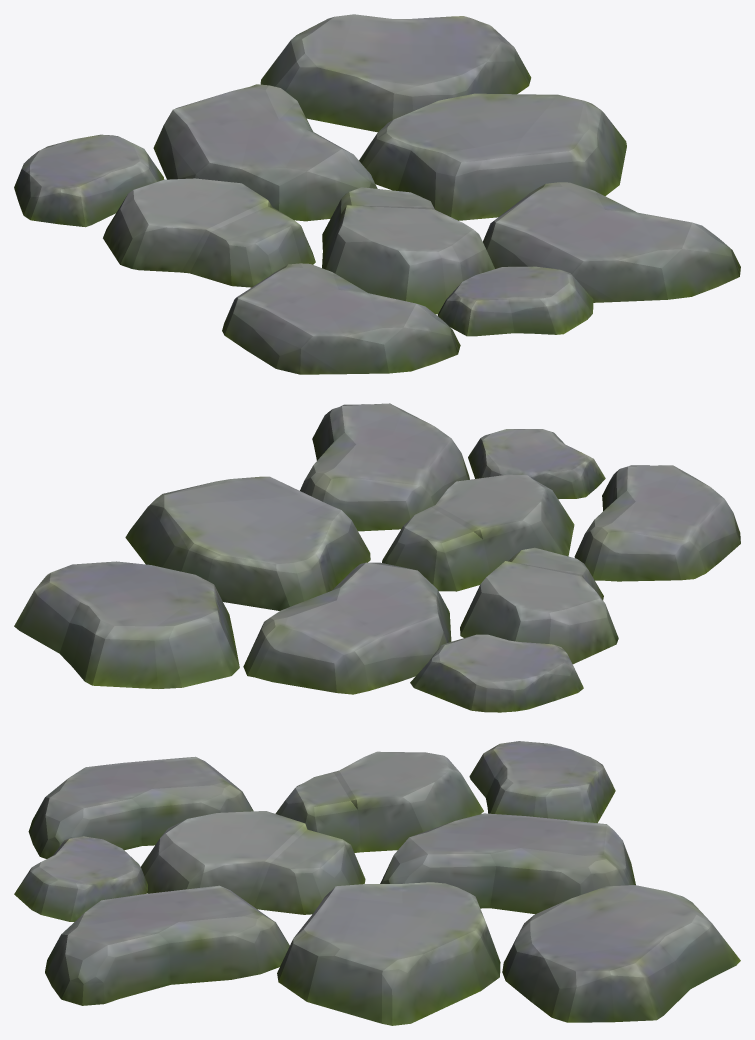
File: path-stone-2.glb
3 renders of one model, top to bottom at view 1: azimuth 30°, elevation 25°; view 2: azimuth 150°, elevation 25°; view 3: azimuth 270°, elevation 25°, orthographic. The views are drawn at different scales.
Visible parts, largest first — view 1: RockPath_Round_Small_2; view 2: RockPath_Round_Small_2; view 3: RockPath_Round_Small_2.
Part boxes in pixels (bbox=[...]): RockPath_Round_Small_2: bbox=[14, 14, 740, 374]; RockPath_Round_Small_2: bbox=[14, 403, 740, 712]; RockPath_Round_Small_2: bbox=[14, 741, 740, 1025].
Bounding box in the file's own units: 1.14 × 0.1047 × 1.35.
Materials: 1 (1 with a texture image).
